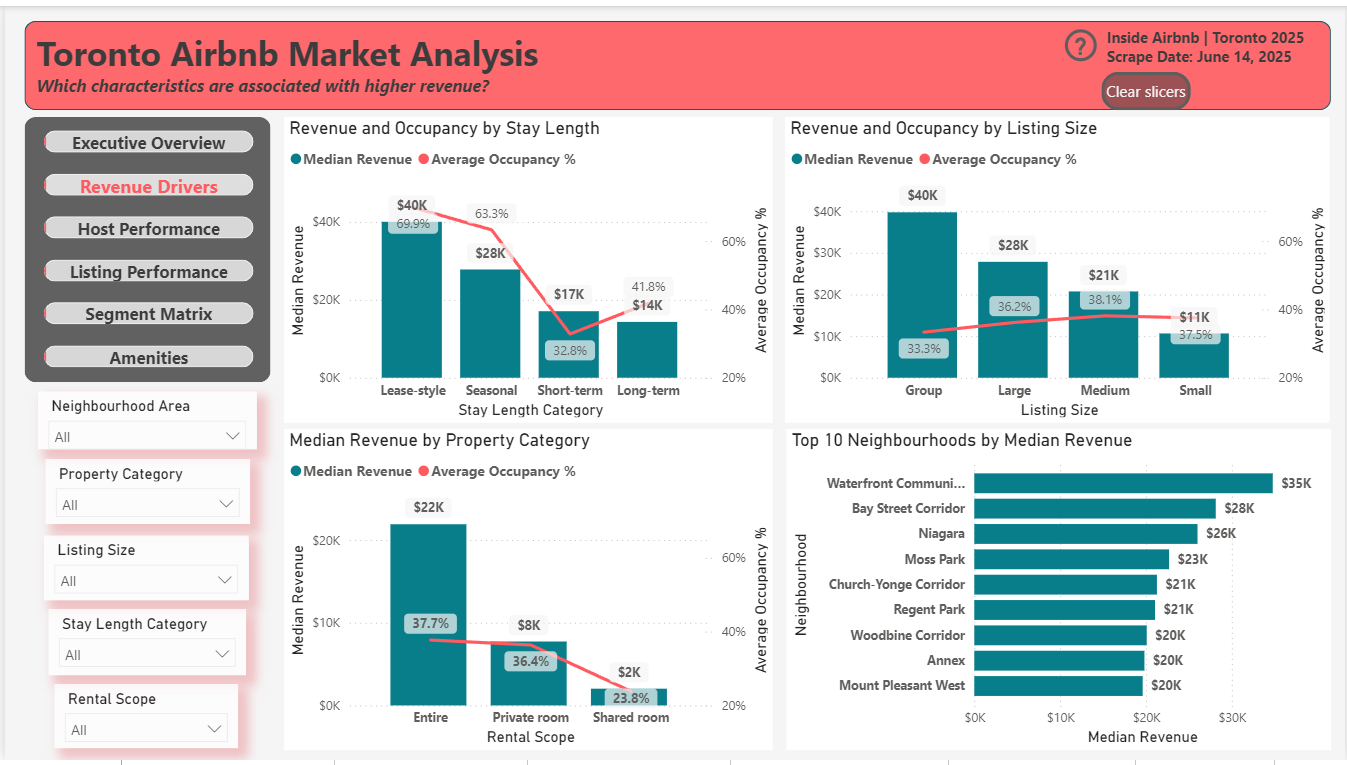

The dashboard page shown, as its layout file describes it:
{"tool":"powerbi","page":{"name":"Revenue Drivers","canvas":[1280,720],"ordinal":1},"visuals":[{"type":"shape","box":[18.3,106.7,235,253.3],"z":0},{"type":"shape","box":[18.2,14.2,1247.6,85.1],"z":1000},{"type":"textbox","box":[10,16.7,531.7,90],"z":2000},{"type":"textbox","box":[1047.5,14.6,218,47.2],"z":3000},{"type":"pageNavigator","box":[36.7,118.5,200.4,231],"z":4000},{"type":"actionButton","box":[1047.1,62.8,85.1,36.5],"z":5000},{"type":"slicer","fields":{"Values":["dim_neighbourhoods.Neighbourhood Area Hierarchy.Neighbourhood Area","dim_neighbourhoods.Neighbourhood Area Hierarchy.Neighbourhood Name"]},"box":[31.1,368.3,208.3,55],"z":6000},{"type":"slicer","fields":{"Values":["dim_classifications.Property Category"]},"box":[38.3,432.8,195,61.7],"z":7000},{"type":"slicer","fields":{"Values":["dim_classifications.Accommodation Size"]},"box":[37.8,505,195,61.7],"z":8000},{"type":"slicer","fields":{"Values":["dim_classifications.Stay Length Category"]},"box":[41.7,576.1,188.3,63.3],"z":9000},{"type":"slicer","fields":{"Values":["dim_classifications.Rental Scope"]},"box":[46.7,647.8,175,61],"z":10000},{"type":"lineClusteredColumnComboChart","title":"Median Revenue by Property Category","fields":{"Category":["dim_classifications.Rental Scope"],"Y":["Measures List.Median Revenue"],"Y2":["Measures List.Average Occupancy %"]},"box":[266.7,403.3,466.7,306.7],"z":11000},{"type":"clusteredBarChart","title":"Top 10 Neighbourhoods by Median Revenue","fields":{"Y":["Measures List.Median Revenue"],"Category":["dim_neighbourhoods.Neighbourhood"]},"box":[746.7,403.3,520,306.7],"z":12000},{"type":"lineClusteredColumnComboChart","title":"Revenue and Occupancy by Stay Length","fields":{"Category":["dim_classifications.Stay Length Category"],"Y":["Measures List.Median Revenue"],"Y2":["Measures List.Average Occupancy %"]},"box":[266.7,106.7,466.7,291.7],"z":13000},{"type":"lineClusteredColumnComboChart","title":"Revenue and Occupancy by Listing Size","fields":{"Y":["Measures List.Median Revenue"],"Y2":["Measures List.Average Occupancy %"],"Category":["dim_classifications.Accommodation Size"]},"box":[745,106.7,520,291.7],"z":14000},{"type":"actionButton","box":[1007.2,17.9,40.7,40.7],"z":15000}]}

Visuals, with their boxes in screenshot pixels (x1, y1, x2, y2), scaled from the page's 1280x720 canvas onto the 1347x765 screenshot:
shape: box=[19, 113, 267, 382]
shape: box=[19, 15, 1332, 106]
textbox: box=[11, 18, 570, 113]
textbox: box=[1102, 16, 1332, 66]
pageNavigator: box=[39, 126, 250, 371]
actionButton: box=[1102, 67, 1191, 106]
slicer - dim_neighbourhoods.Neighbourhood Area Hierarchy.Neighbourhood Area x dim_neighbourhoods.Neighbourhood Area Hierarchy.Neighbourhood Name: box=[33, 391, 252, 450]
slicer - dim_classifications.Property Category: box=[40, 460, 246, 525]
slicer - dim_classifications.Accommodation Size: box=[40, 537, 245, 602]
slicer - dim_classifications.Stay Length Category: box=[44, 612, 242, 679]
slicer - dim_classifications.Rental Scope: box=[49, 688, 233, 753]
"Median Revenue by Property Category" lineClusteredColumnComboChart: box=[281, 429, 772, 754]
"Top 10 Neighbourhoods by Median Revenue" clusteredBarChart: box=[786, 429, 1333, 754]
"Revenue and Occupancy by Stay Length" lineClusteredColumnComboChart: box=[281, 113, 772, 423]
"Revenue and Occupancy by Listing Size" lineClusteredColumnComboChart: box=[784, 113, 1331, 423]
actionButton: box=[1060, 19, 1103, 62]
